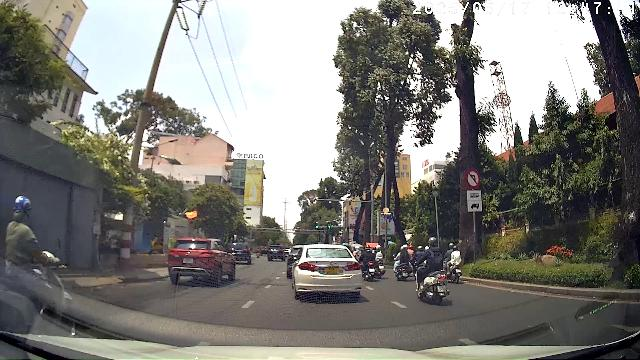123a-cam-re-trai: (466, 168, 480, 188)
